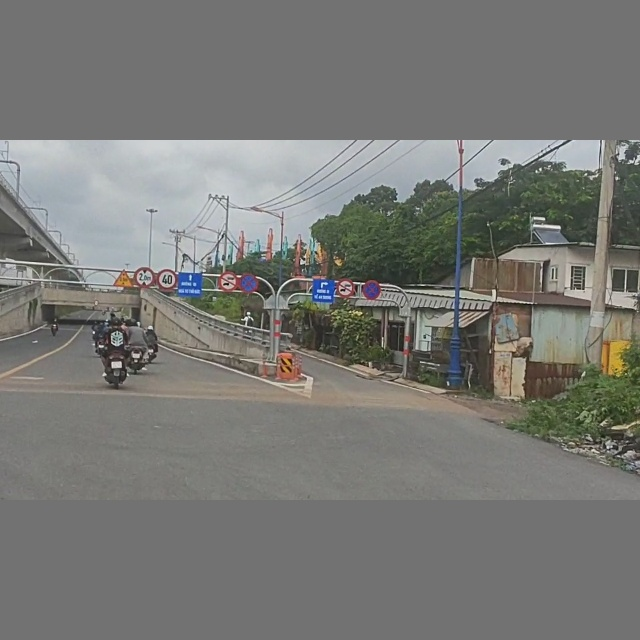P.107: (218, 271, 238, 291), (337, 279, 354, 299)
P.117*: (134, 267, 155, 289)
P.127*40: (157, 269, 178, 290)
P.130: (362, 279, 381, 301), (239, 273, 258, 293)
W.239b*: (112, 268, 133, 289)
